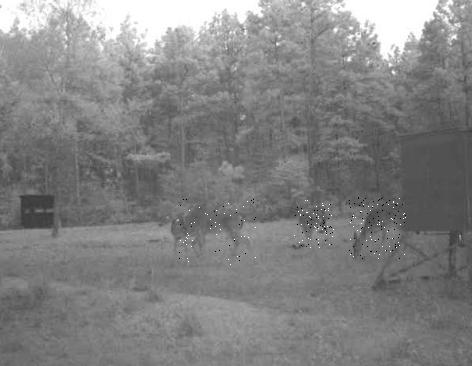Deer: (179, 198, 256, 265), (349, 197, 406, 260), (293, 200, 334, 248)
